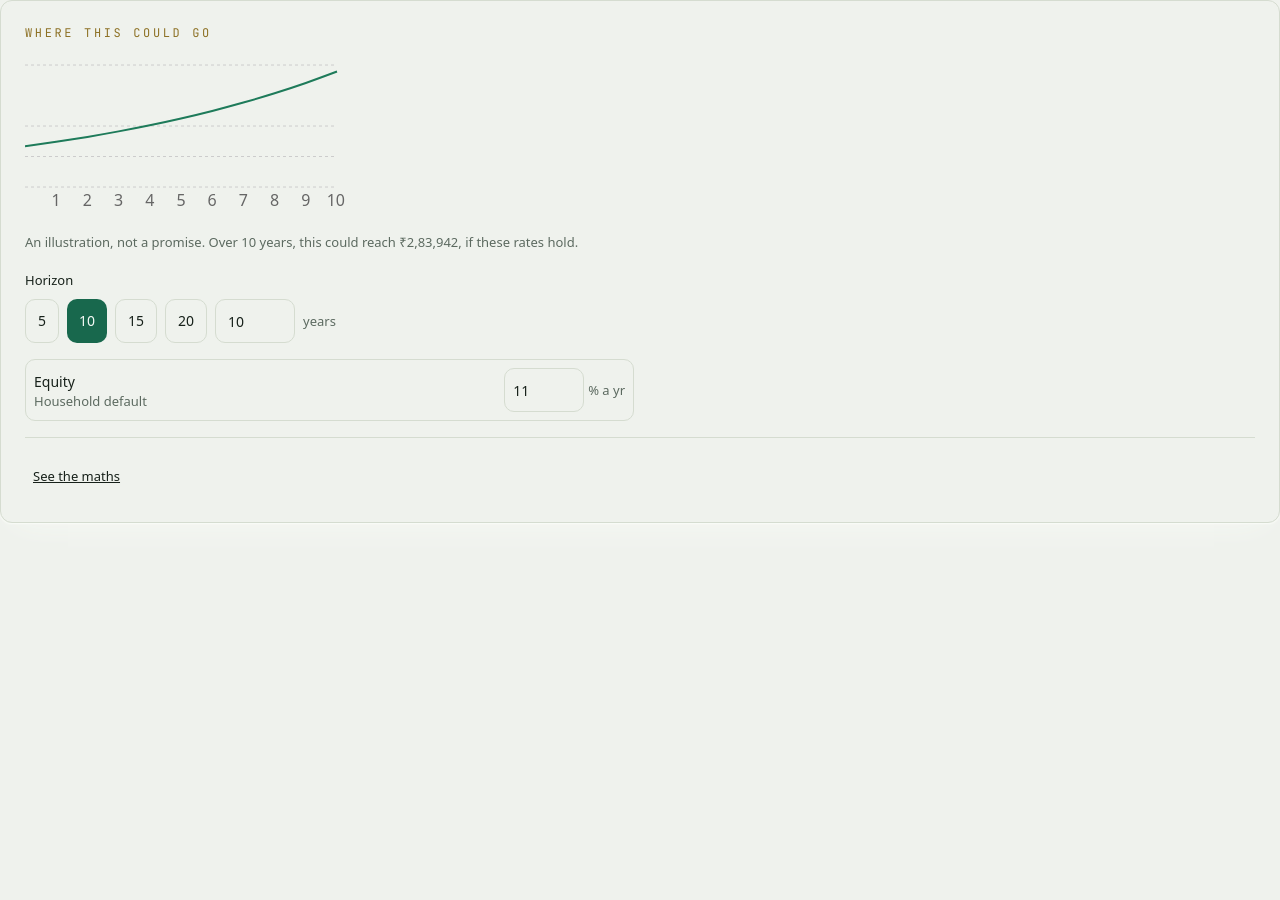
Scenario: ProjectionPanel › "See the maths" disclosure panel (E9) › shows the class-default basis verbatim when nothing was seeded or overridden, with no as-of date
Click the button "See the maths" at (76, 476), box [25, 454, 128, 498]
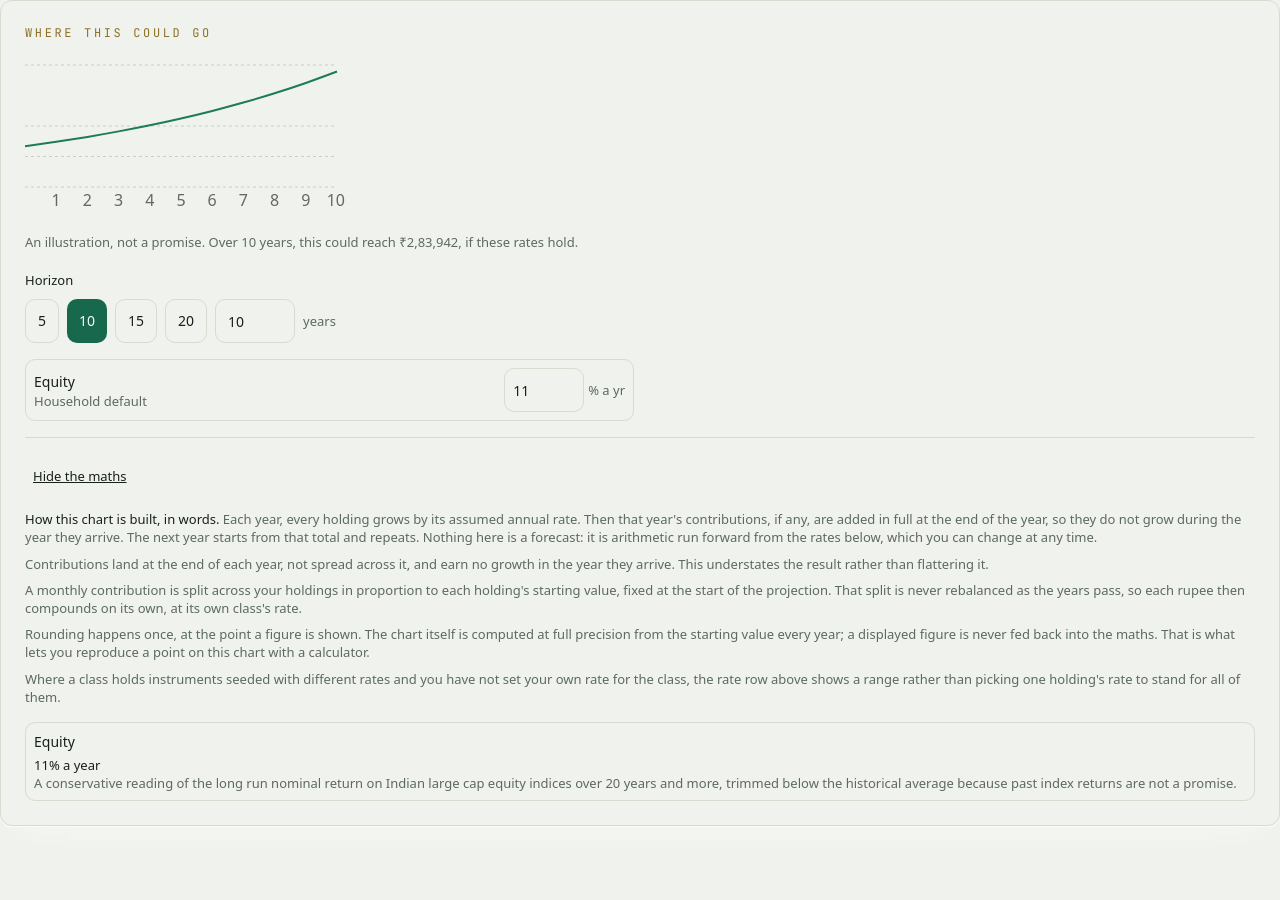
Result: the text "A conservative reading of the long run nominal return on Indian large cap equity indices" is shown at [34, 774, 1237, 792]
